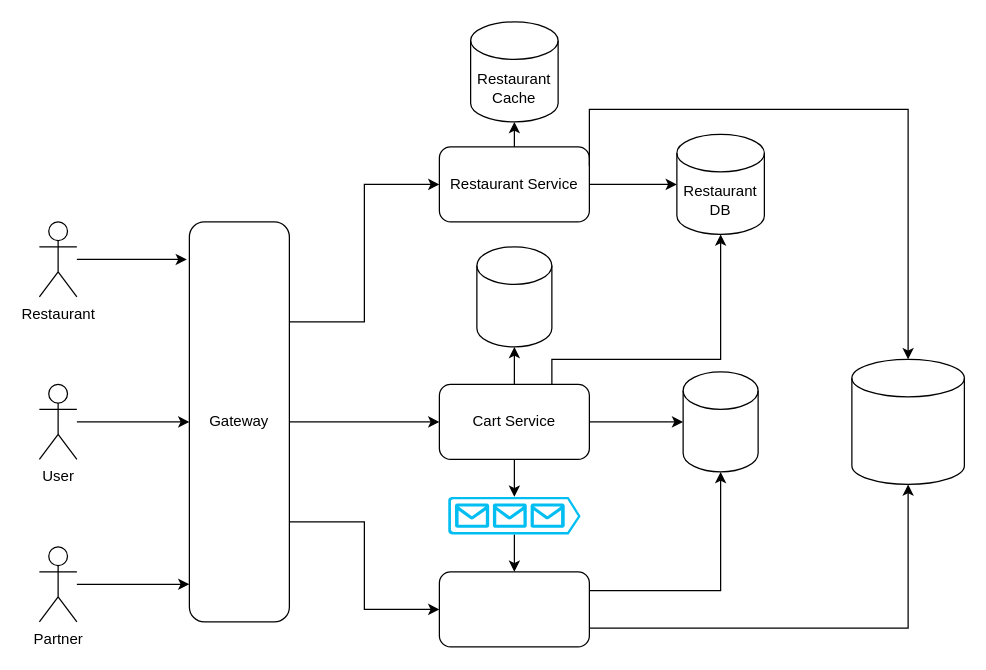
The diagram is 986 pixels wide and 670 high, and some of its shapes have lost their labels. The box of each missing label's shape, as (x1, y1, x2, y2) in pixels:
Cart Cache: (476, 246, 552, 347)
GeoSharded Db: (851, 358, 964, 484)
Order Process Service: (438, 571, 589, 647)
Orders DB: (682, 371, 758, 472)
